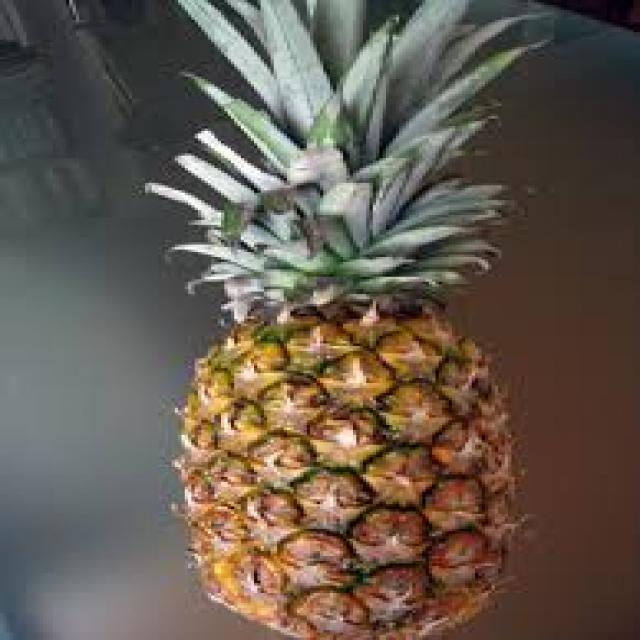organic waste: (158, 0, 534, 638), (172, 286, 524, 638), (168, 0, 528, 319)
